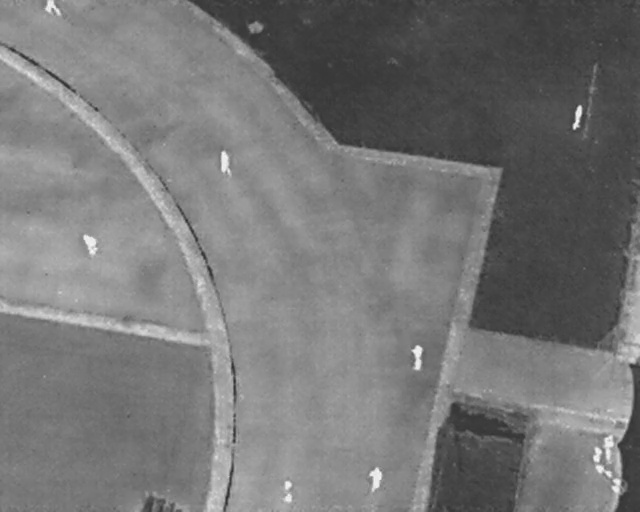DontCare: (585, 432, 630, 498)
Person: (81, 231, 102, 259), (218, 147, 234, 176), (367, 465, 383, 493), (411, 340, 423, 372), (42, 0, 64, 17), (572, 103, 584, 130), (283, 494, 293, 504), (284, 479, 293, 489)
